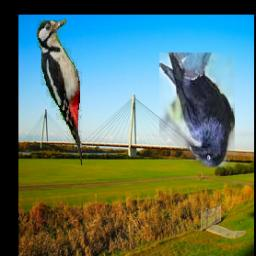Crow: (159, 53, 235, 167)
Woodpecker: (38, 18, 83, 168)
